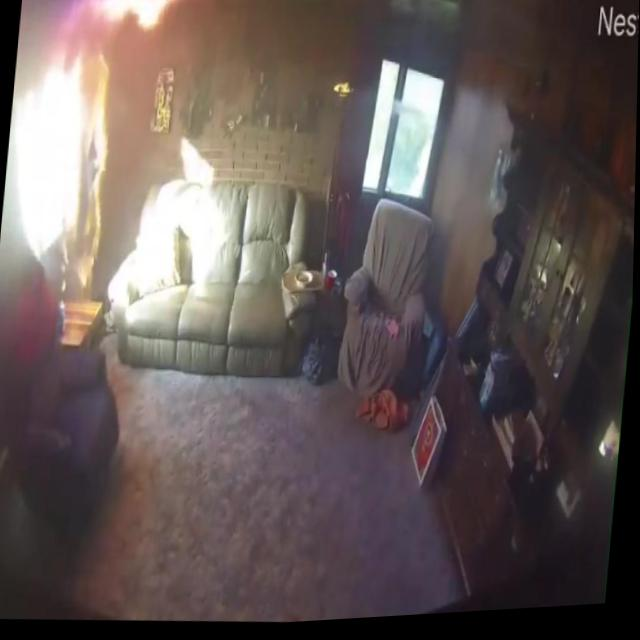fire: (41, 35, 120, 304), (60, 0, 185, 43)
